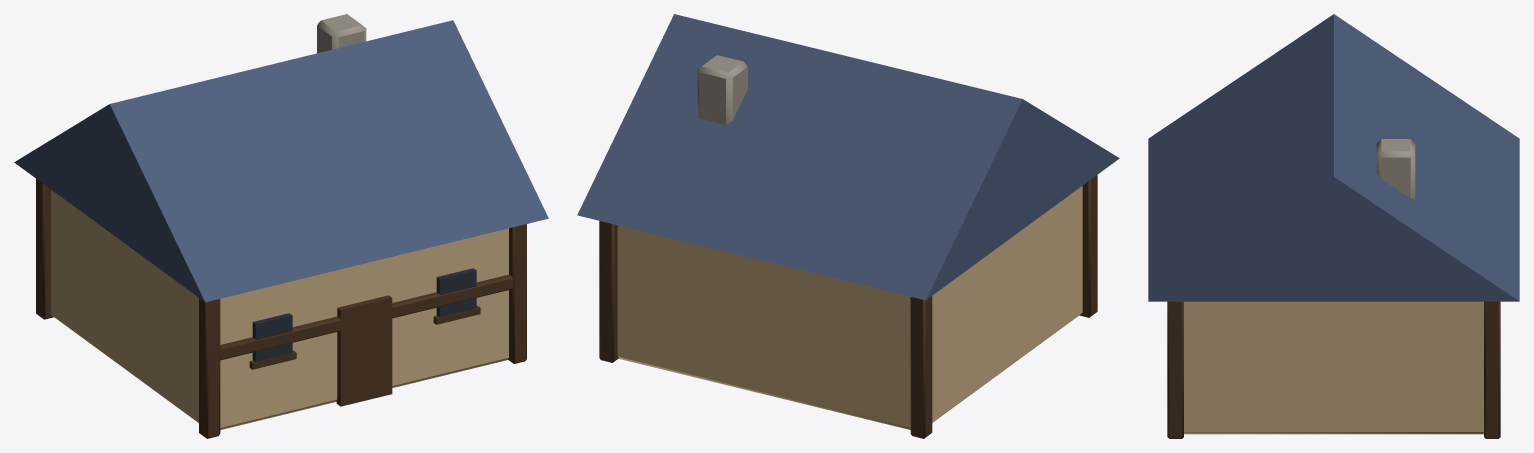
File: house.glb
The picture shows the model from 3 angles, left to right: view 1: azimuth 30°, elevation 25°; view 2: azimuth 150°, elevation 25°; view 3: azimuth 270°, elevation 25°; orthographic projection. The views are drawn at different scales.
Visible parts, largest first — view 1: building; view 2: building; view 3: building.
Boxes of the visible parts, x1,y1,x2,y2 form: building: (14, 14, 548, 438); building: (577, 14, 1119, 438); building: (1148, 14, 1519, 438).
Size of the model in its own units: 2.8 by 2.15 by 2.7.
